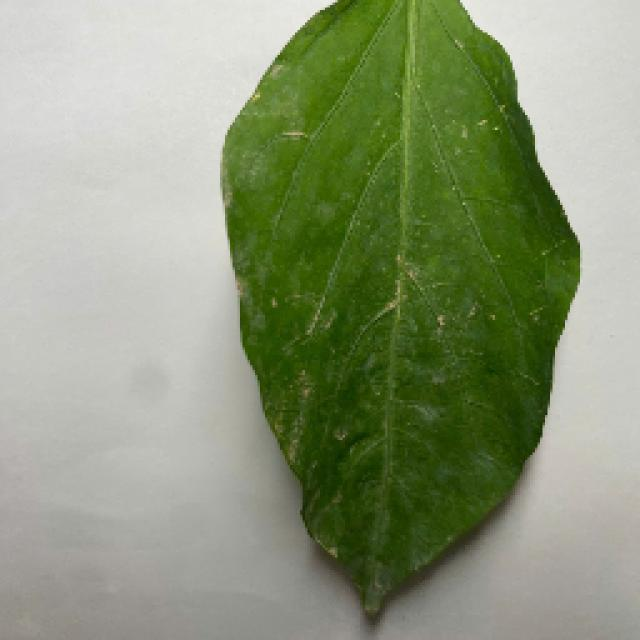Leaf: (216, 2, 581, 636)
